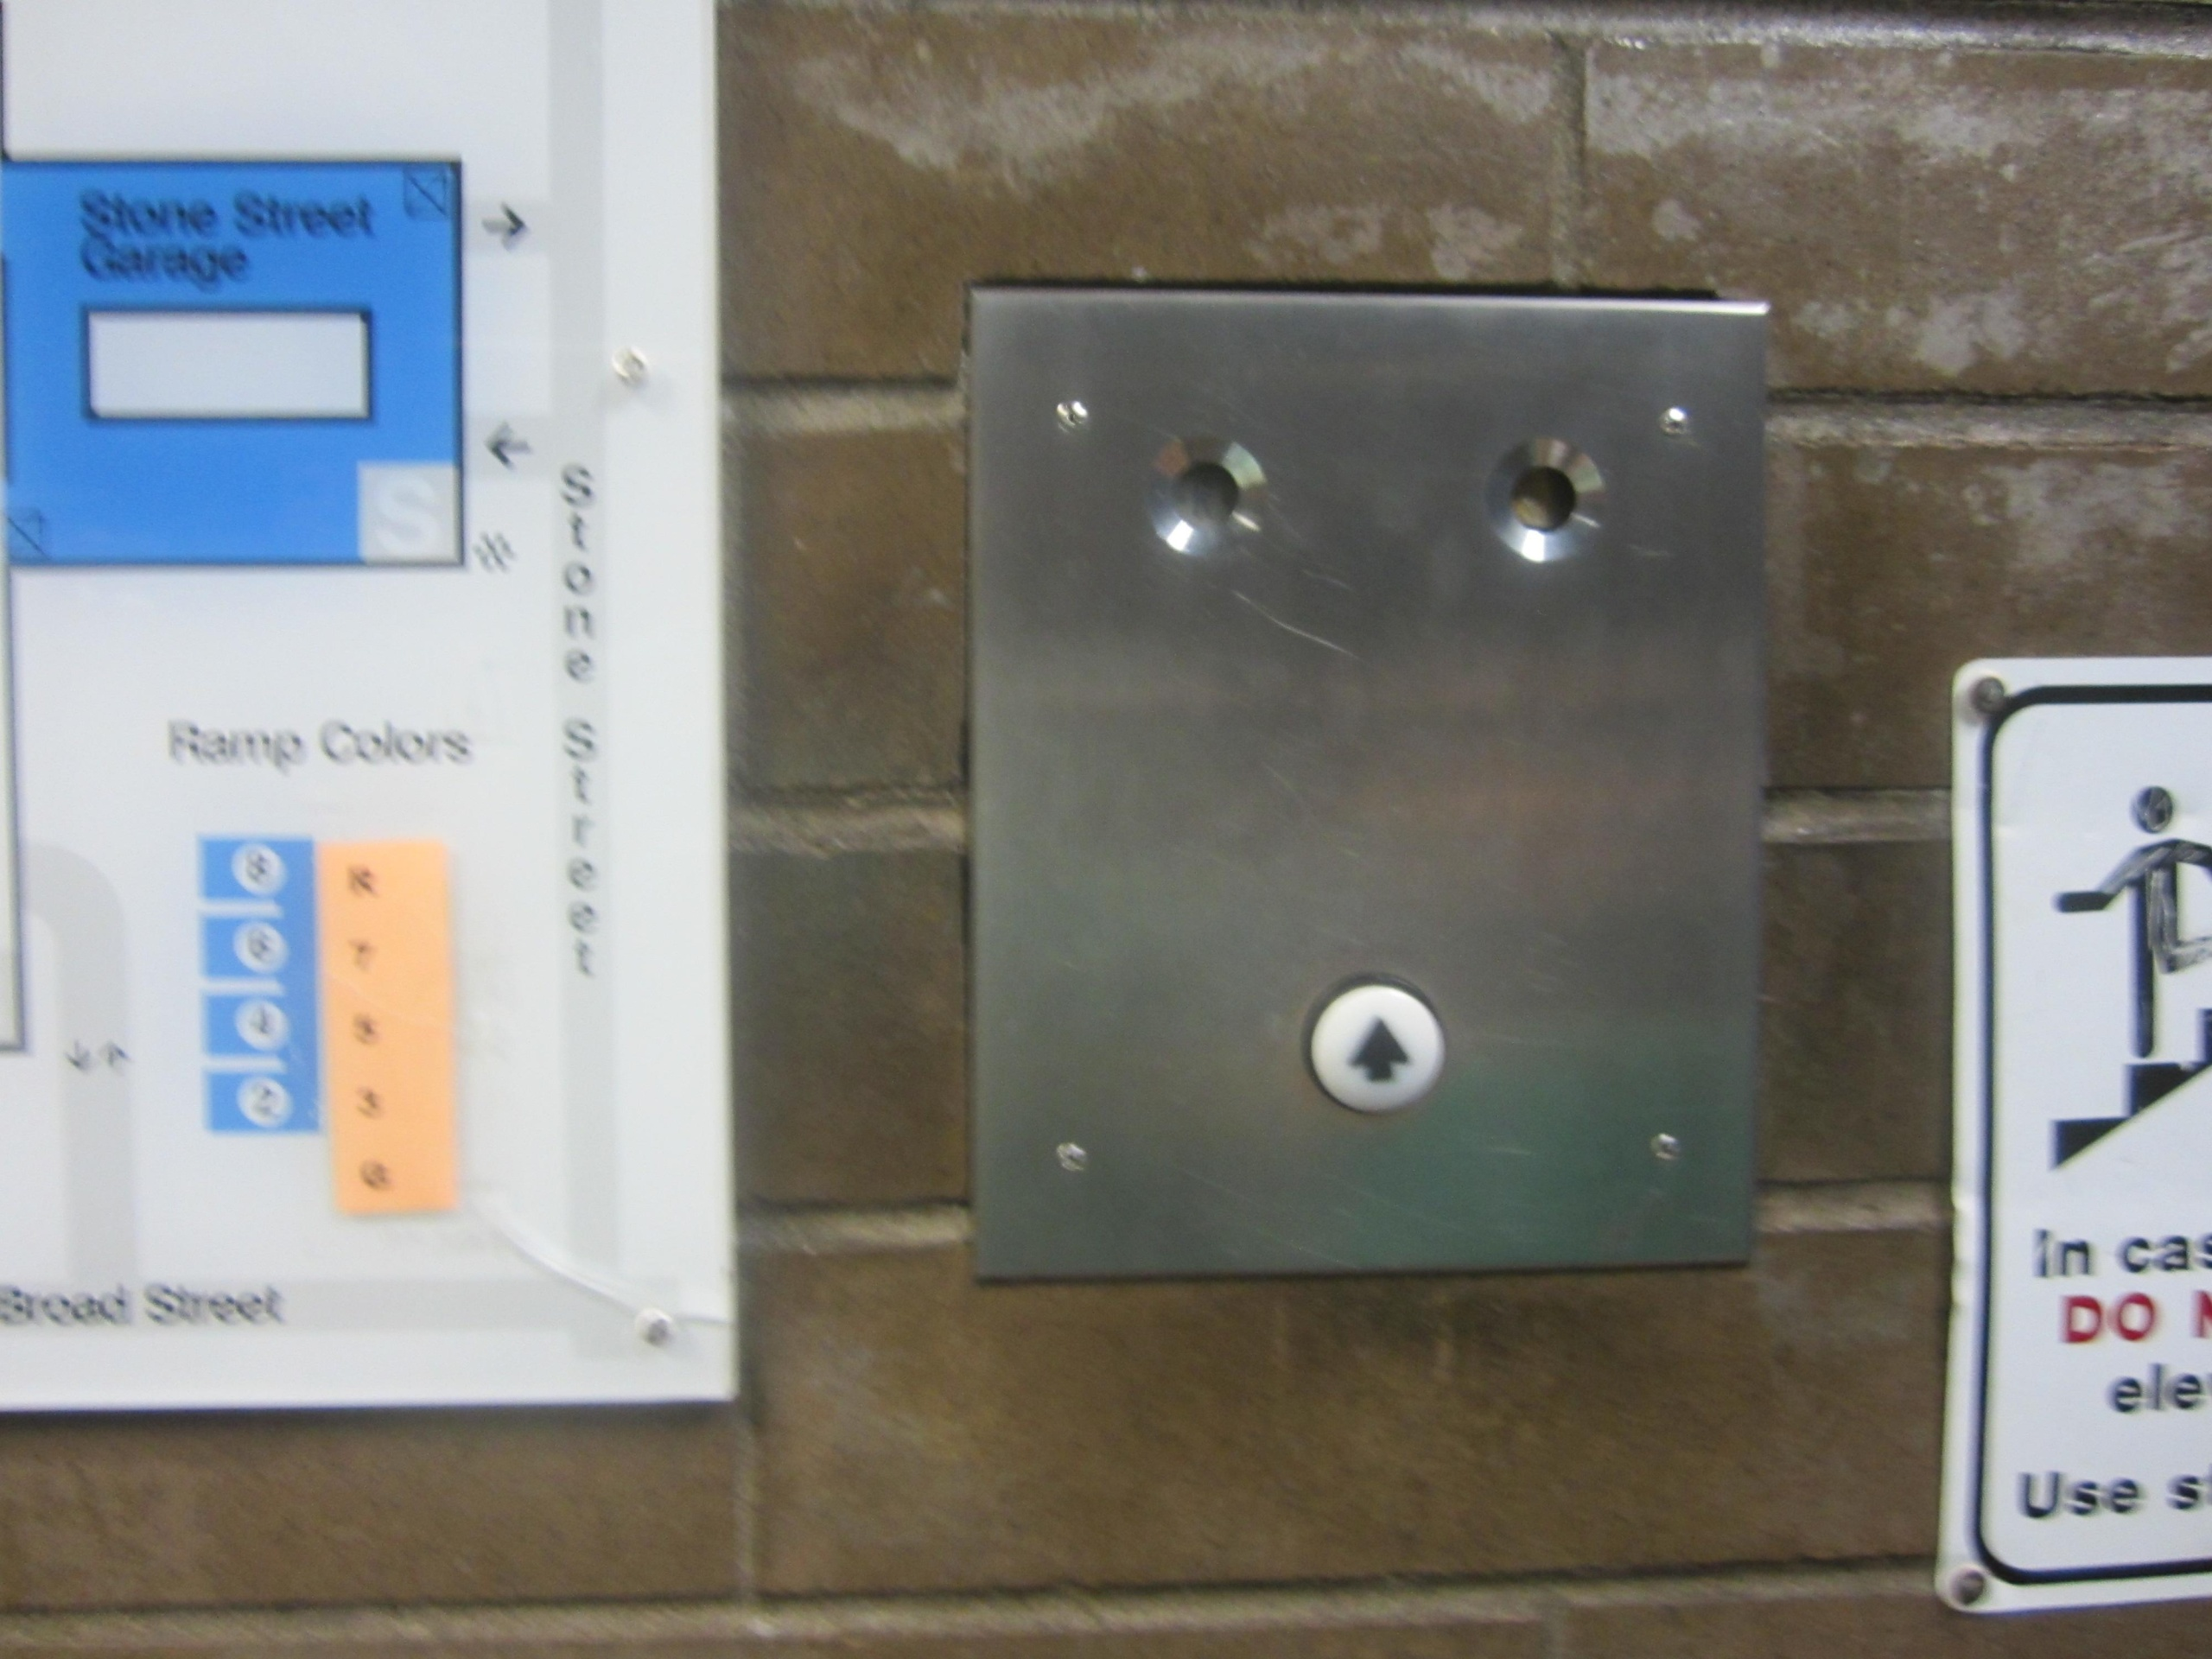blur: (1143, 434, 1266, 559), (1484, 439, 1608, 565)
up: (1303, 974, 1449, 1121)
